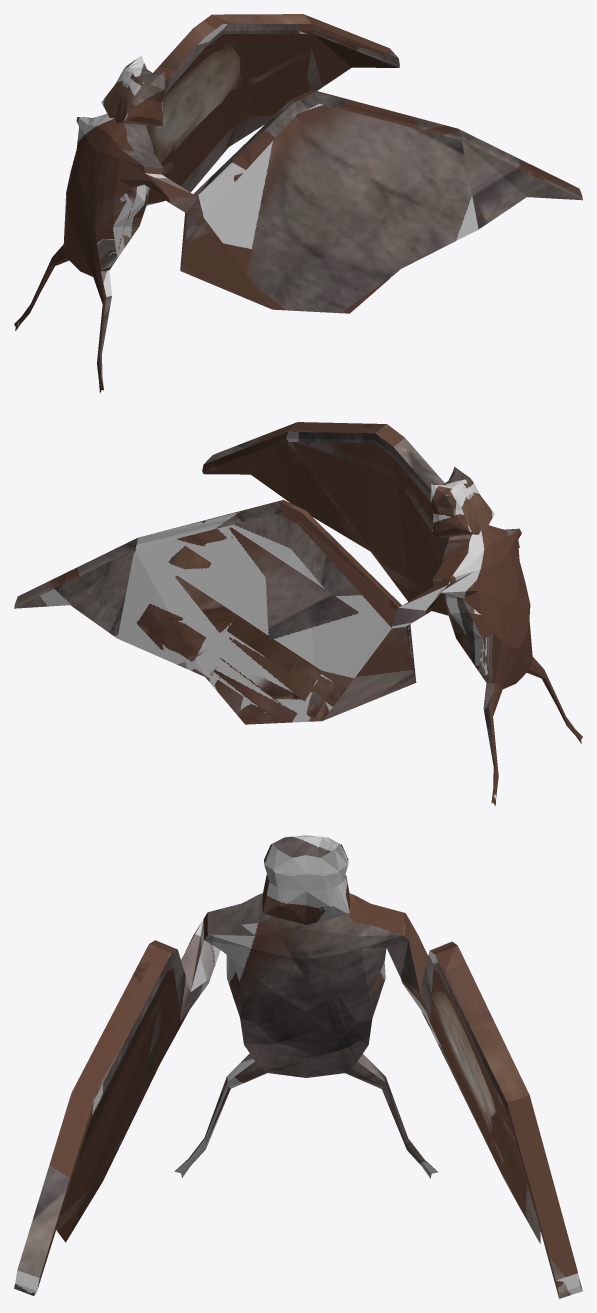
File: Enemigo118.obj
3 renders of one model, top to bottom at view 1: azimuth 30°, elevation 25°; view 2: azimuth 150°, elevation 25°; view 3: azimuth 270°, elevation 25°, orthographic. The views are drawn at different scales.
Parts seen in each view (by area): view 1: Plano; view 2: Plano; view 3: Plano.
Boxes of the visible parts, left/top/right/bottom form: Plano: left=14, top=14, right=582, bottom=393; Plano: left=14, top=422, right=582, bottom=806; Plano: left=14, top=835, right=582, bottom=1298.
Size of the model in its own units: 1.16 by 0.7146 by 0.9143.
1 material, 1 textured.
